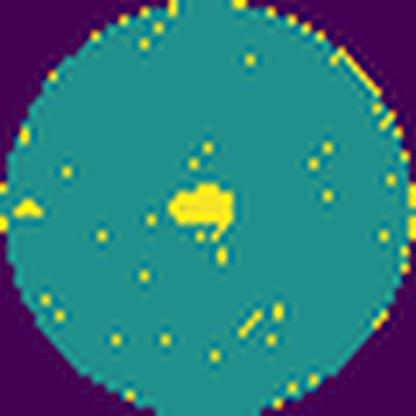Center: (166, 181, 237, 228)
